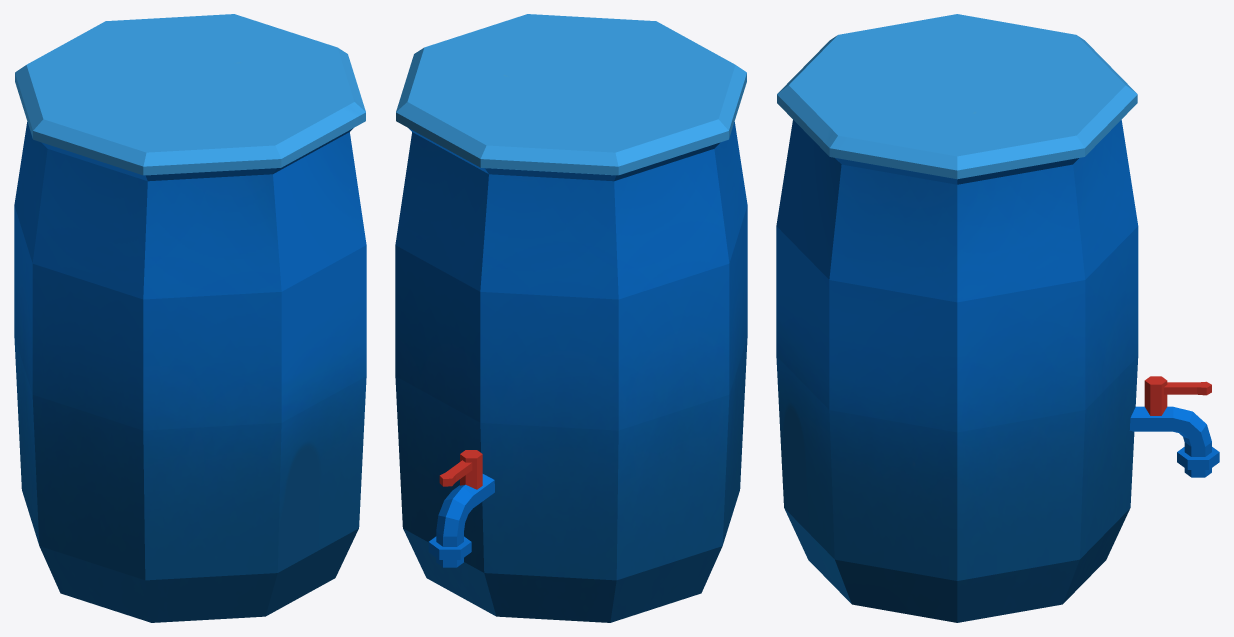
File: water bucket.fbx
3 views of the same model, side by side, from view 1: azimuth 30°, elevation 25°; view 2: azimuth 150°, elevation 25°; view 3: azimuth 270°, elevation 25° (orthographic).
Parts seen in each view (by area): view 1: Bucket, Bucket_Cover; view 2: Bucket, Bucket_Cover, tap; view 3: Bucket, Bucket_Cover, tap.
Boxes of the visible parts, box(x1,y1,x2,y2) form: Bucket: box(14, 122, 366, 622); Bucket_Cover: box(15, 14, 365, 175); Bucket: box(395, 122, 747, 622); Bucket_Cover: box(396, 14, 746, 175); tap: box(428, 450, 494, 567); Bucket: box(776, 120, 1138, 622); Bucket_Cover: box(777, 14, 1137, 179); tap: box(1129, 376, 1219, 477).
Size of the model in its own units: 82.2 by 119 by 101.
